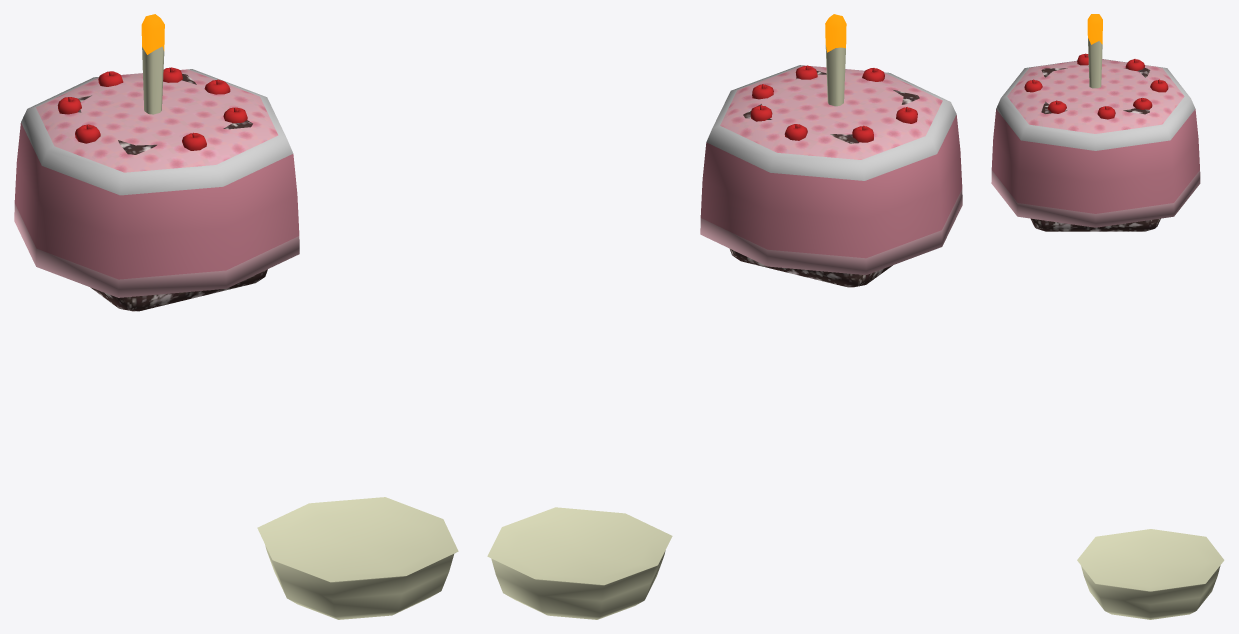
Rendered from Lamington.fbx.
3 renders of one model, left to right at view 1: azimuth 30°, elevation 25°; view 2: azimuth 150°, elevation 25°; view 3: azimuth 270°, elevation 25°, orthographic. The views are drawn at different scales.
Visible parts, largest first — view 1: Bowl, Contents, Cake, Capsule; view 2: Bowl, Contents, Capsule, Cake; view 3: Bowl, Contents, Cake, Capsule.
Part boxes in pixels (x1,y1,x2,y2): Bowl: (14, 69, 299, 297); Contents: (257, 497, 458, 619); Cake: (78, 74, 267, 311); Capsule: (141, 14, 164, 114); Bowl: (700, 65, 962, 274); Contents: (487, 507, 672, 619); Capsule: (825, 14, 846, 106); Cake: (730, 71, 919, 287); Bowl: (991, 59, 1200, 227); Contents: (1077, 529, 1224, 619); Cake: (1031, 68, 1160, 231); Capsule: (1087, 14, 1102, 88).
Size of the model in its own units: 1.6 by 2.28 by 0.9702.
5 materials, 2 textured.
